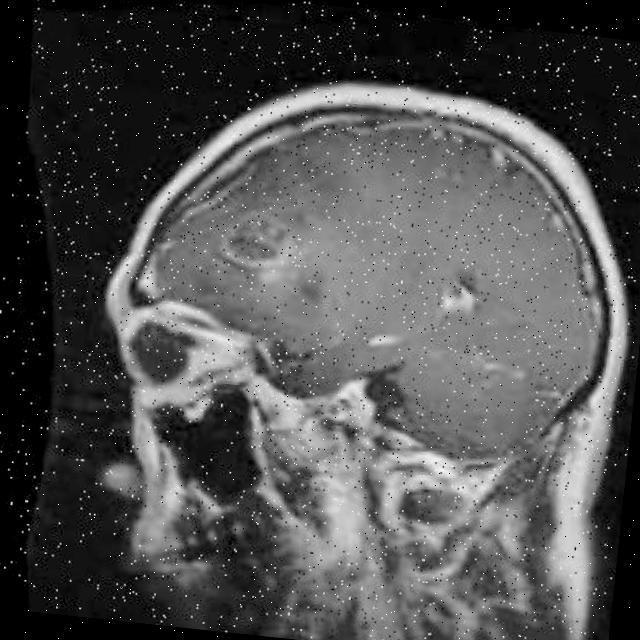LMCI: (192, 168, 308, 292)
